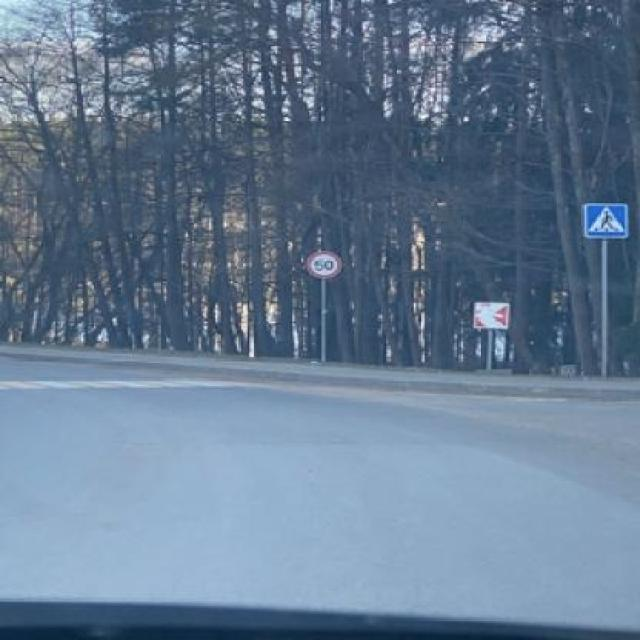forb_speed_over_50: (306, 251, 340, 275)
